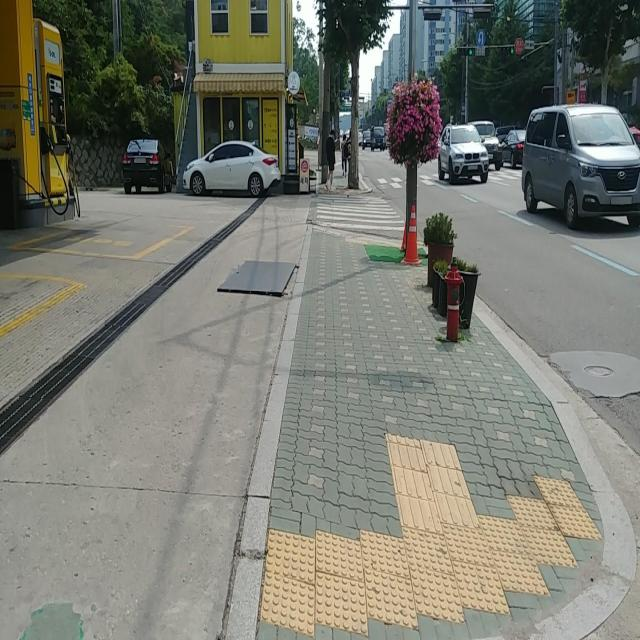횡단보도: (316, 192, 406, 232), (375, 174, 440, 192)
